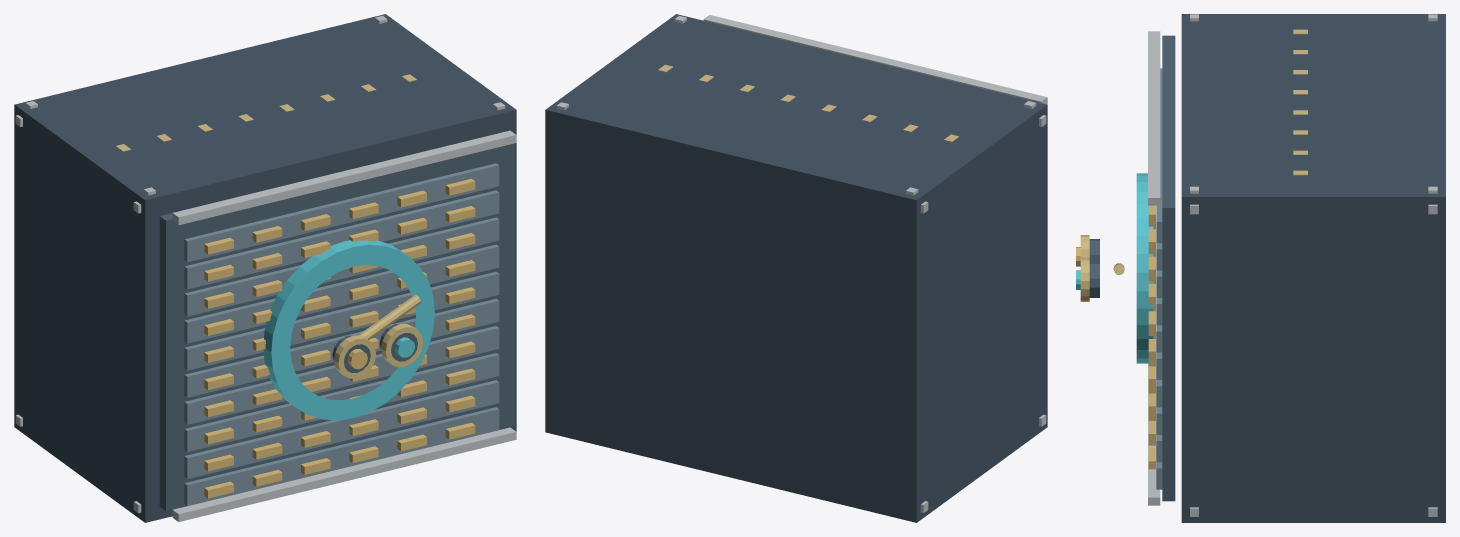
Rendered from 38_L81_HardwareWatchdogTimer.glb.
3 views of the same model, side by side, from view 1: azimuth 30°, elevation 25°; view 2: azimuth 150°, elevation 25°; view 3: azimuth 270°, elevation 25° (orthographic).
Visible parts, largest first — view 1: HardwareWatchdogTimer_Node_0000, HardwareWatchdogTimer_Node_0009, HardwareWatchdogTimer_Node_0090, HardwareWatchdogTimer_Node_0010, HardwareWatchdogTimer_Node_0073, HardwareWatchdogTimer_Node_0017, HardwareWatchdogTimer_Node_0066, HardwareWatchdogTimer_Node_0081, HardwareWatchdogTimer_Node_0080, HardwareWatchdogTimer_Node_0052, HardwareWatchdogTimer_Node_0045, HardwareWatchdogTimer_Node_0024 (+6 smaller); view 2: HardwareWatchdogTimer_Node_0000, HardwareWatchdogTimer_Node_0081; view 3: HardwareWatchdogTimer_Node_0000, HardwareWatchdogTimer_Node_0009, HardwareWatchdogTimer_Node_0090, HardwareWatchdogTimer_Node_0081, HardwareWatchdogTimer_Node_0073, HardwareWatchdogTimer_Node_0080, HardwareWatchdogTimer_Node_0096.
Part boxes in pixels (left/top/right/bottom): HardwareWatchdogTimer_Node_0000: left=14, top=14, right=516, bottom=522; HardwareWatchdogTimer_Node_0009: left=159, top=143, right=514, bottom=510; HardwareWatchdogTimer_Node_0090: left=263, top=240, right=434, bottom=420; HardwareWatchdogTimer_Node_0010: left=184, top=407, right=499, bottom=506; HardwareWatchdogTimer_Node_0073: left=184, top=163, right=499, bottom=262; HardwareWatchdogTimer_Node_0017: left=184, top=380, right=499, bottom=478; HardwareWatchdogTimer_Node_0066: left=184, top=190, right=499, bottom=289; HardwareWatchdogTimer_Node_0081: left=172, top=130, right=516, bottom=225; HardwareWatchdogTimer_Node_0080: left=172, top=427, right=516, bottom=521; HardwareWatchdogTimer_Node_0052: left=184, top=244, right=499, bottom=343; HardwareWatchdogTimer_Node_0045: left=184, top=271, right=499, bottom=370; HardwareWatchdogTimer_Node_0024: left=184, top=353, right=499, bottom=451; HardwareWatchdogTimer_Node_0000: left=545, top=14, right=1047, bottom=522; HardwareWatchdogTimer_Node_0081: left=703, top=15, right=1047, bottom=104; HardwareWatchdogTimer_Node_0000: left=1181, top=14, right=1445, bottom=522; HardwareWatchdogTimer_Node_0009: left=1162, top=35, right=1175, bottom=501; HardwareWatchdogTimer_Node_0090: left=1136, top=173, right=1153, bottom=363; HardwareWatchdogTimer_Node_0081: left=1148, top=31, right=1160, bottom=205; HardwareWatchdogTimer_Node_0073: left=1156, top=68, right=1162, bottom=243; HardwareWatchdogTimer_Node_0080: left=1148, top=331, right=1160, bottom=505; HardwareWatchdogTimer_Node_0096: left=1080, top=258, right=1089, bottom=301.
Size of the model in its own units: 1.2 by 0.998 by 1.01.
